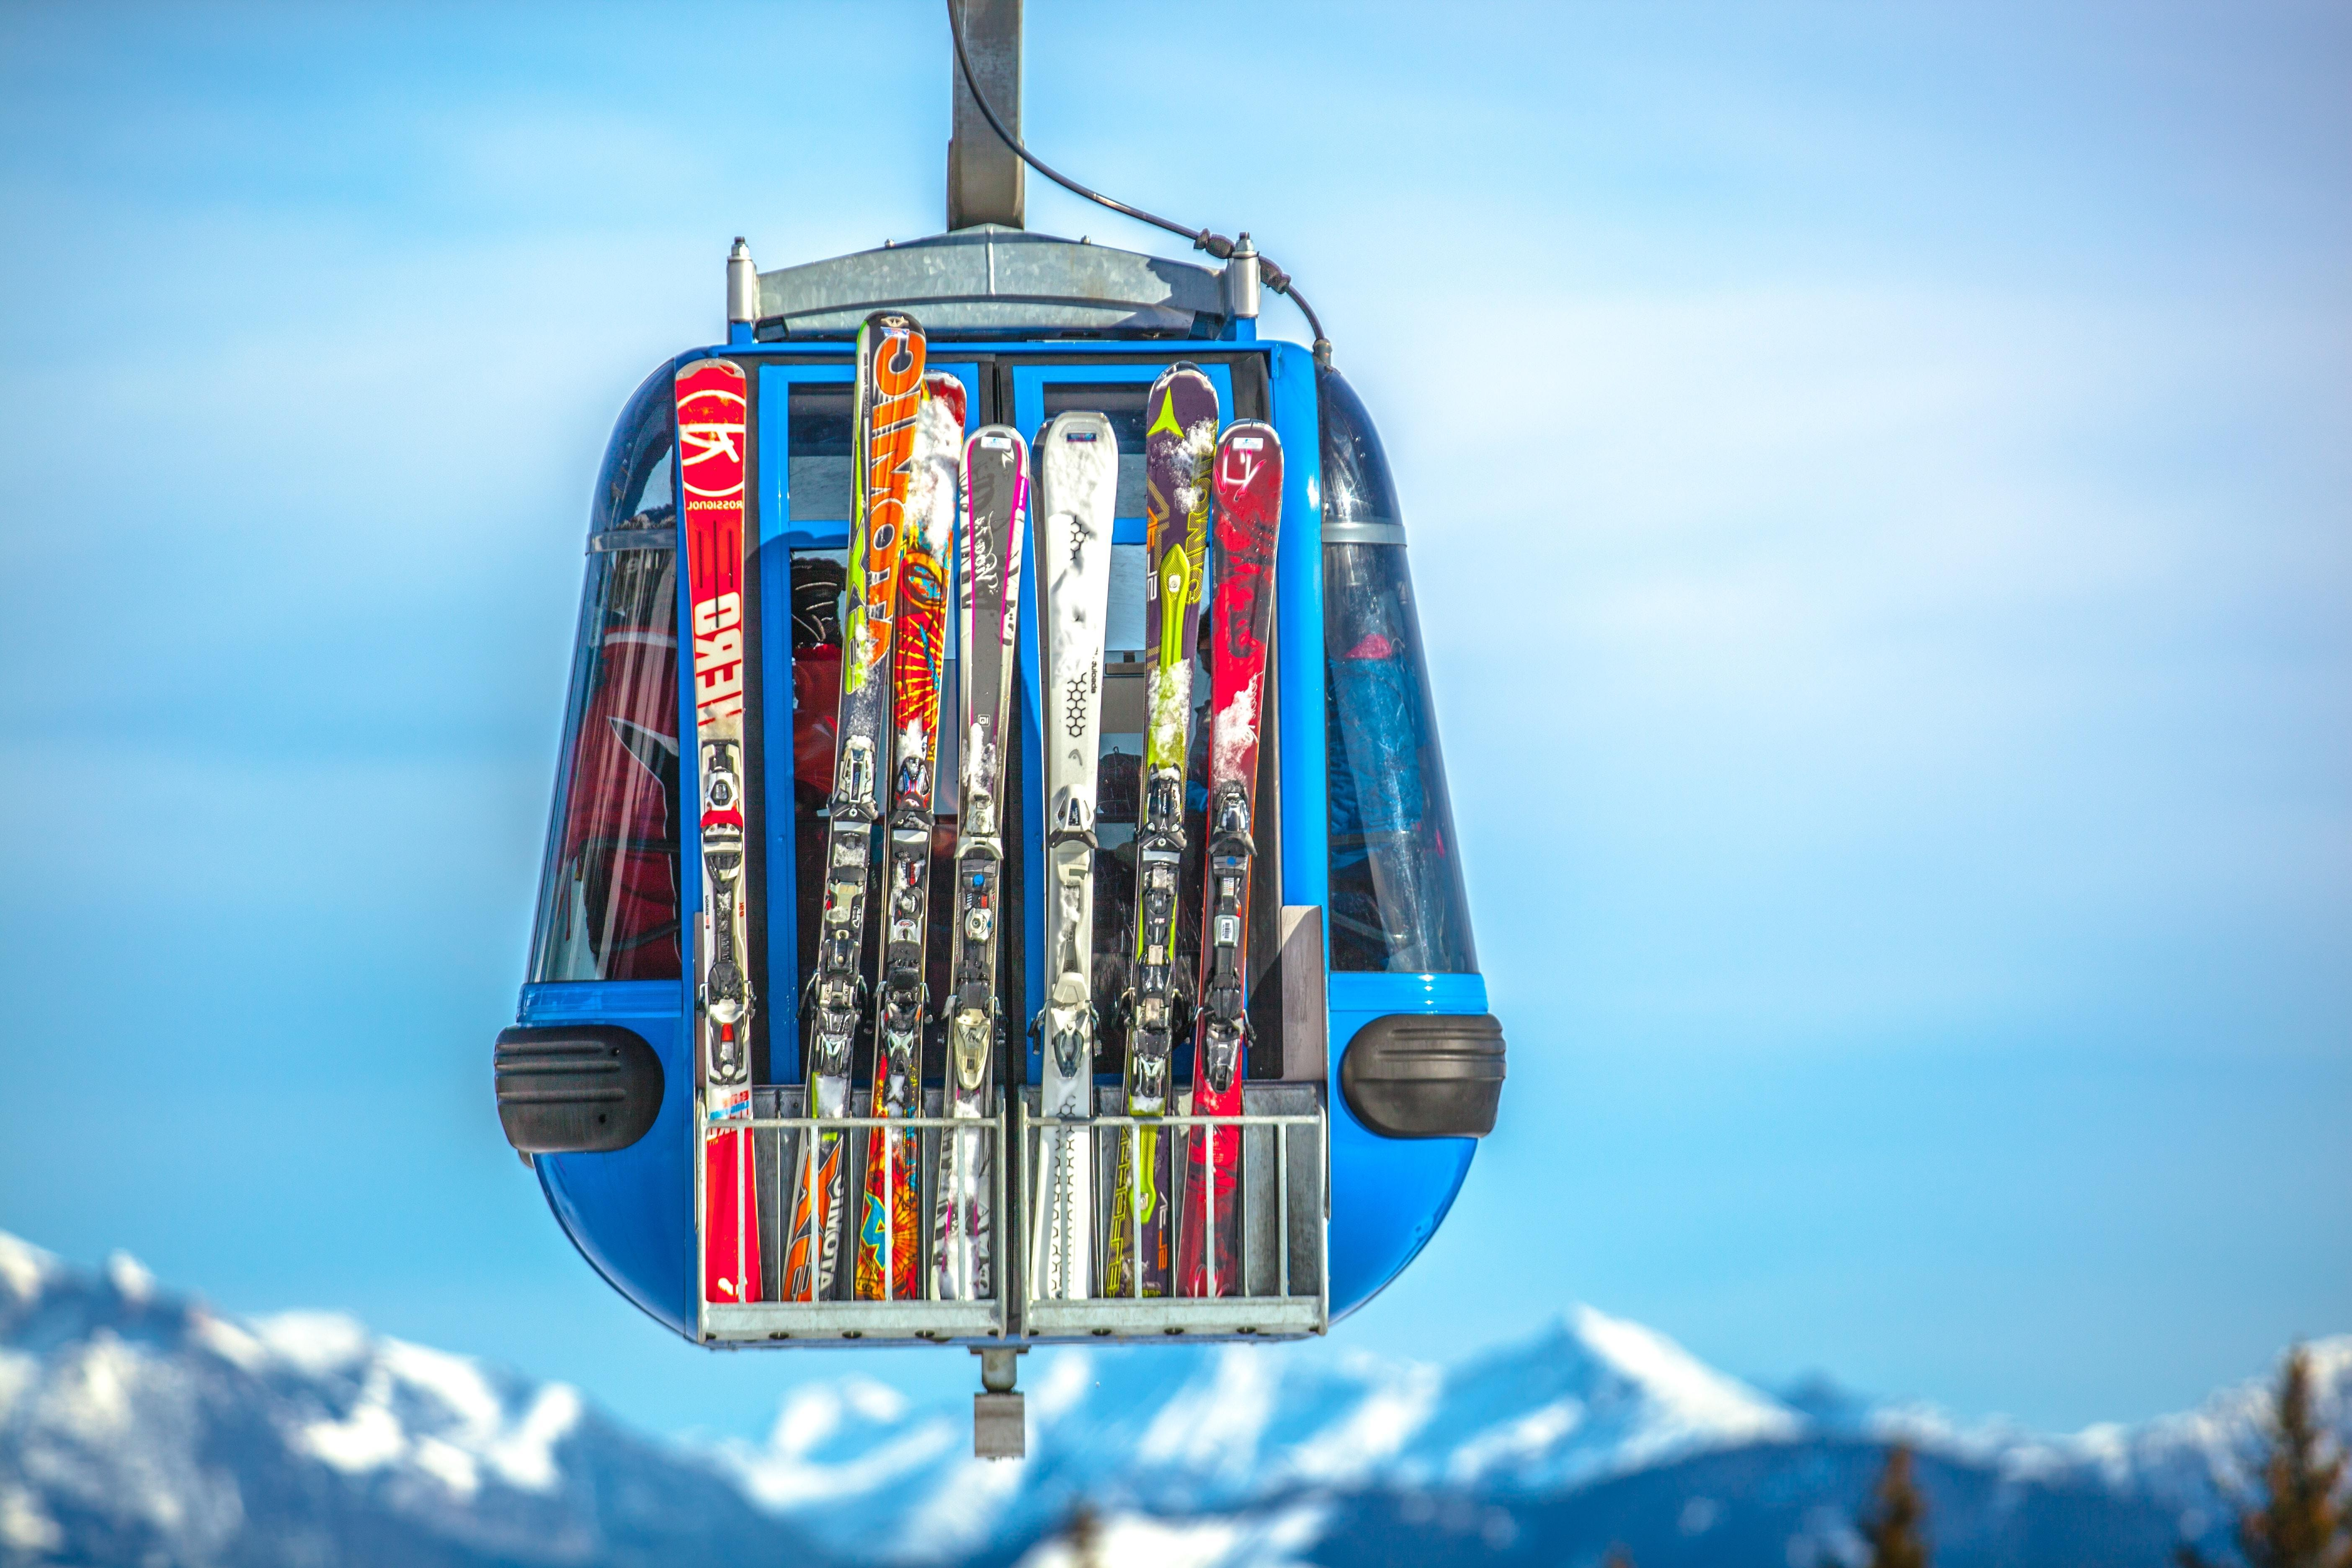Skis: (663, 324, 1038, 1320), (1031, 343, 1285, 1334)
